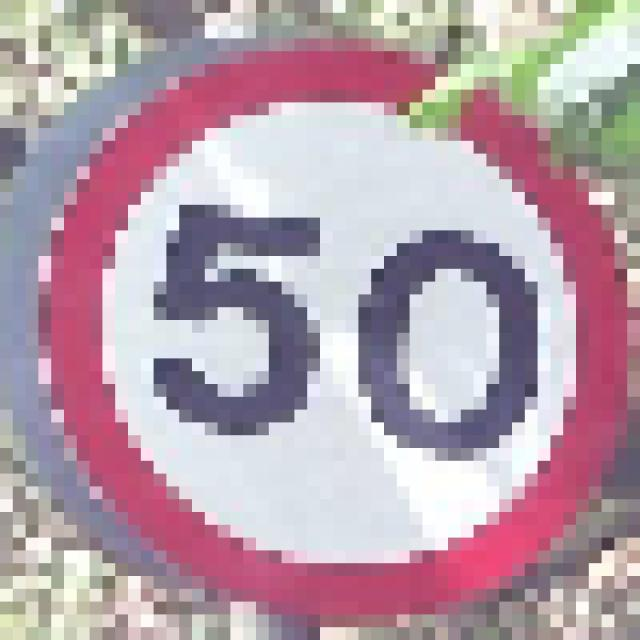Limite-50: (37, 37, 630, 623)
